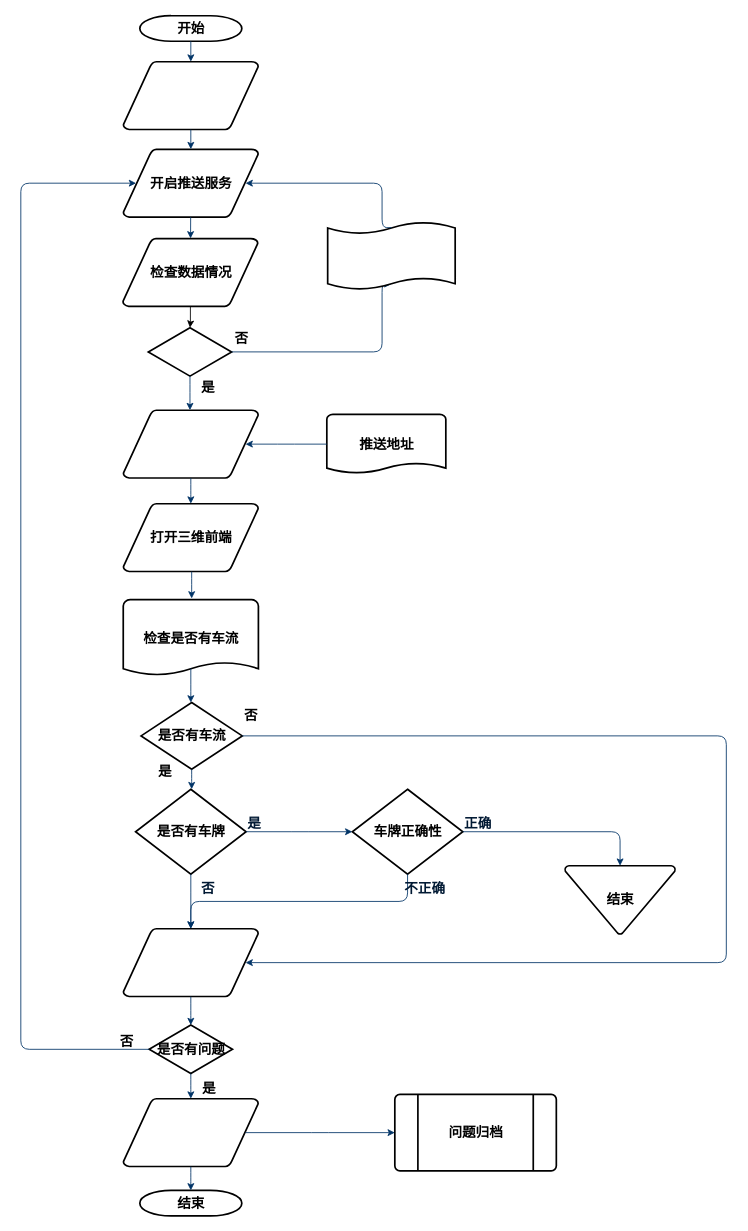
This 748x1231 diagram has some shape labels left out. The shapes that lost their labels are listed below. From the top down, each one's box as (x1, y1, x2, y2) in pixels, then its label:
(122, 60, 259, 130): 交通仿真
(326, 220, 456, 291): 关闭重启
(147, 326, 232, 377): 是否成功
(122, 409, 259, 479): 开始推送
(122, 927, 259, 997): 检查log
(122, 1097, 259, 1167): 交供应商
